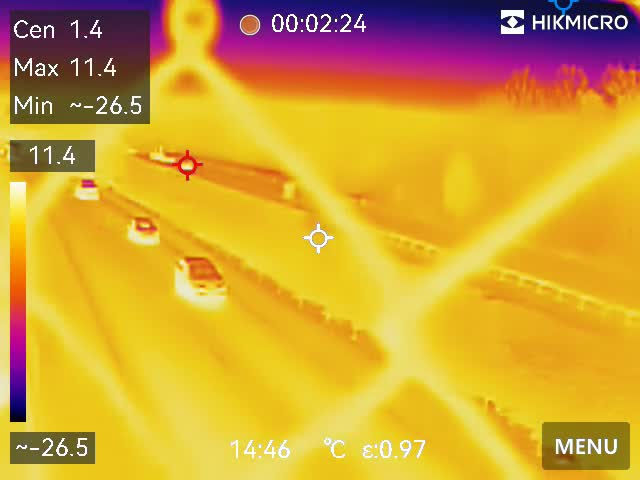vehicle: (175, 252, 228, 300), (126, 206, 164, 249), (73, 175, 101, 203)
